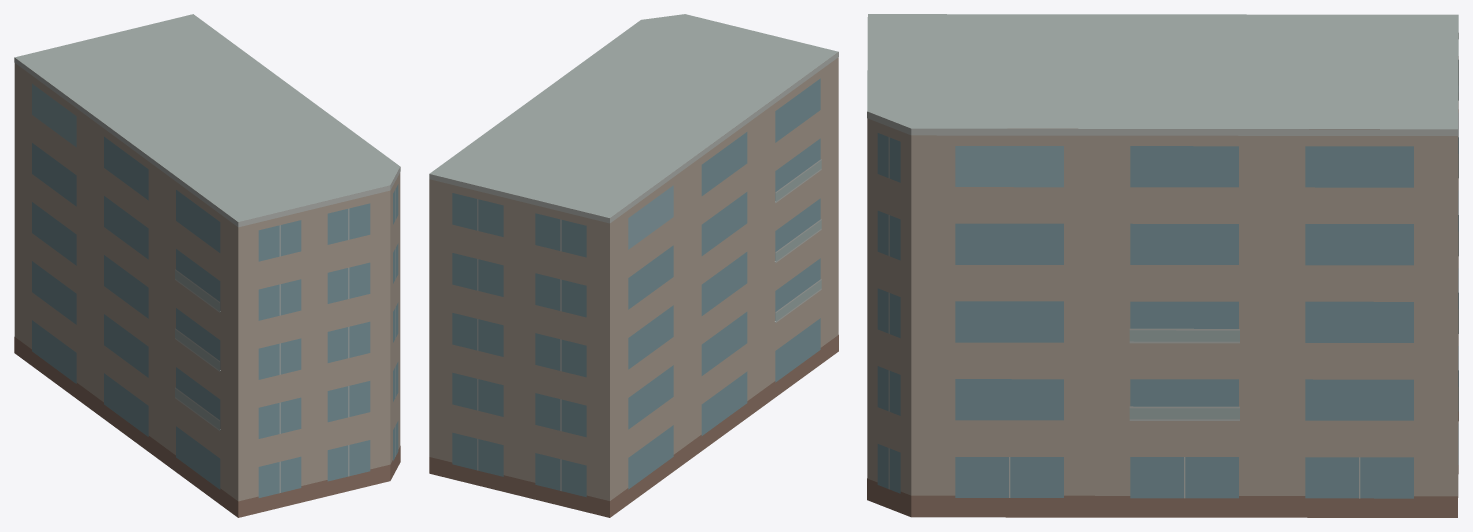
The model's file is survey-upis-32627564.glb.
The picture shows the model from 3 angles, left to right: view 1: azimuth 30°, elevation 25°; view 2: azimuth 150°, elevation 25°; view 3: azimuth 270°, elevation 25°; orthographic projection. The views are drawn at different scales.
Parts seen in each view (by area): view 1: survey-upis-32627564.tmp; view 2: survey-upis-32627564.tmp; view 3: survey-upis-32627564.tmp.
Boxes of the visible parts, x1,y1,x2,y2 form: survey-upis-32627564.tmp: (14, 14, 400, 517); survey-upis-32627564.tmp: (429, 14, 838, 517); survey-upis-32627564.tmp: (867, 14, 1458, 517).
Size of the model in its own units: 8.85 by 13.83 by 19.09.
